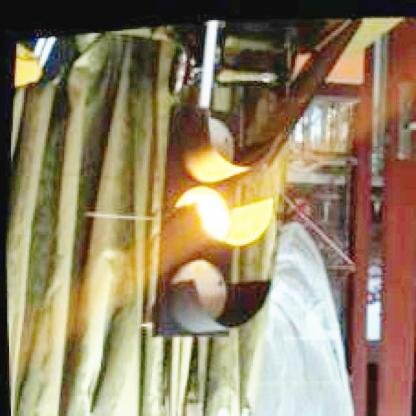Traffic Light -Yellow-: (146, 91, 290, 341)
